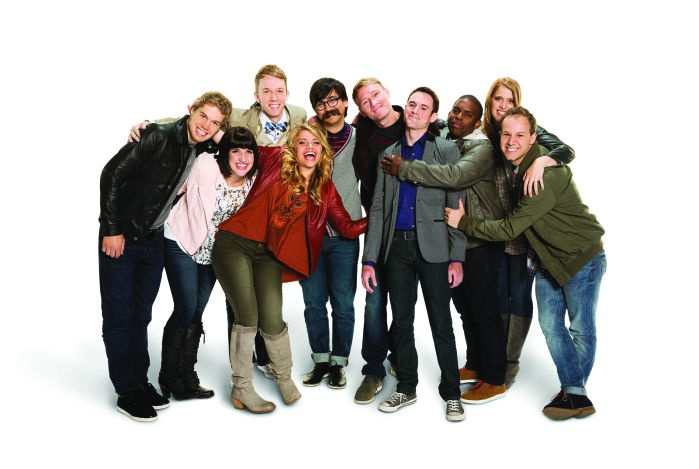bad: (493, 122, 529, 158), (185, 106, 221, 142), (253, 82, 289, 118), (397, 94, 433, 130), (289, 134, 325, 170), (221, 138, 257, 174)
